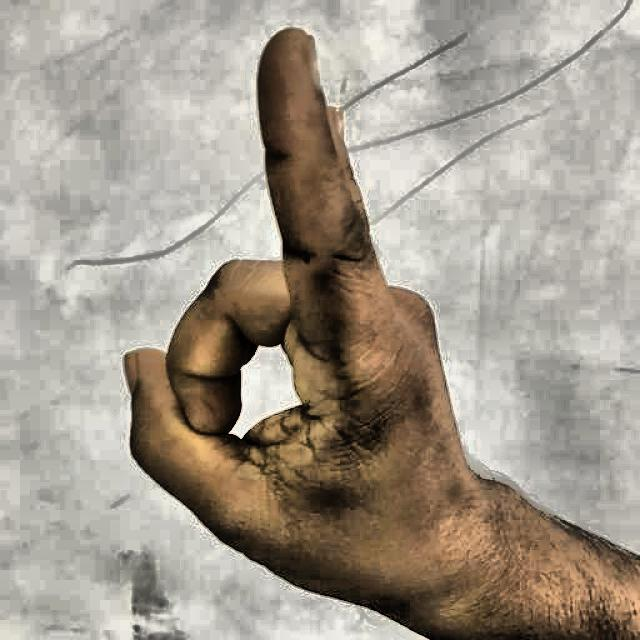Cha: (96, 15, 536, 640)
